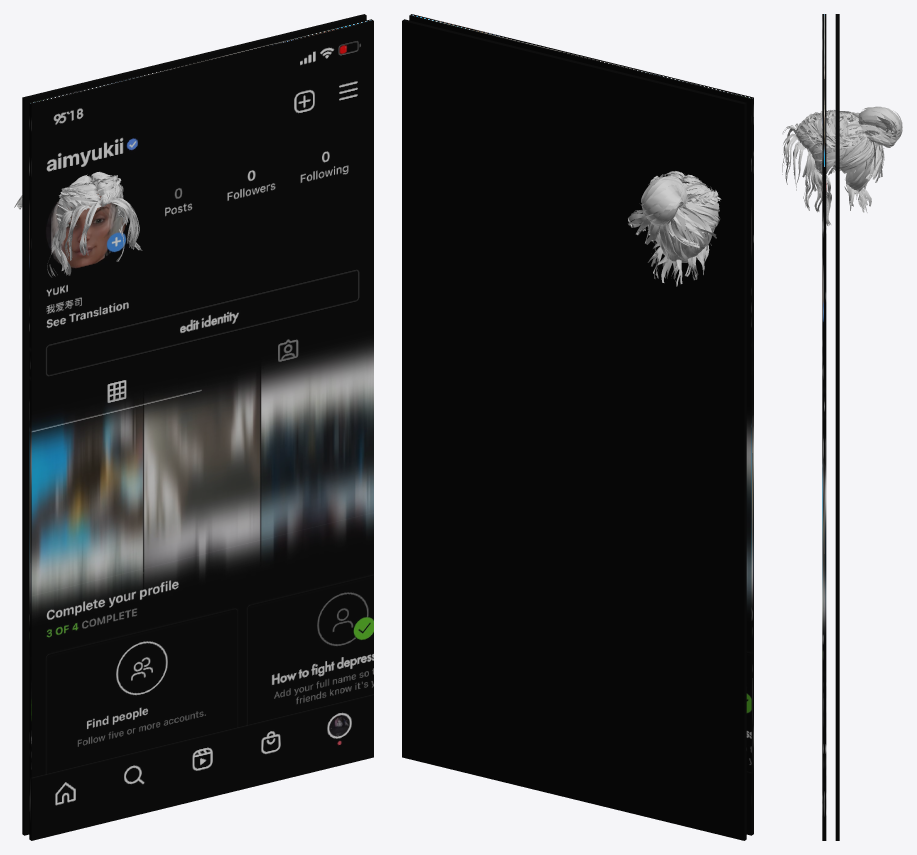
The model's file is yuki.glb.
3 views of the same model, side by side, from view 1: azimuth 30°, elevation 25°; view 2: azimuth 150°, elevation 25°; view 3: azimuth 270°, elevation 25° (orthographic). The views are drawn at different scales.
Parts seen in each view (by area): view 1: videotarget, bg, hair; view 2: bg, videotarget, hair; view 3: hair, bg, videotarget.
Part boxes in pixels (left/top/right/bottom): videotarget: left=29, top=19, right=373, bottom=840; bg: left=22, top=14, right=366, bottom=835; hair: left=14, top=171, right=142, bottom=277; bg: left=402, top=19, right=746, bottom=840; videotarget: left=409, top=14, right=753, bottom=835; hair: left=628, top=171, right=721, bottom=286; hair: left=782, top=106, right=902, bottom=225; bg: left=835, top=14, right=839, bottom=840; videotarget: left=822, top=14, right=826, bottom=840.
Bounding box in the file's own units: 0.9 × 1.85 × 0.3006.
3 materials, 1 textured.
